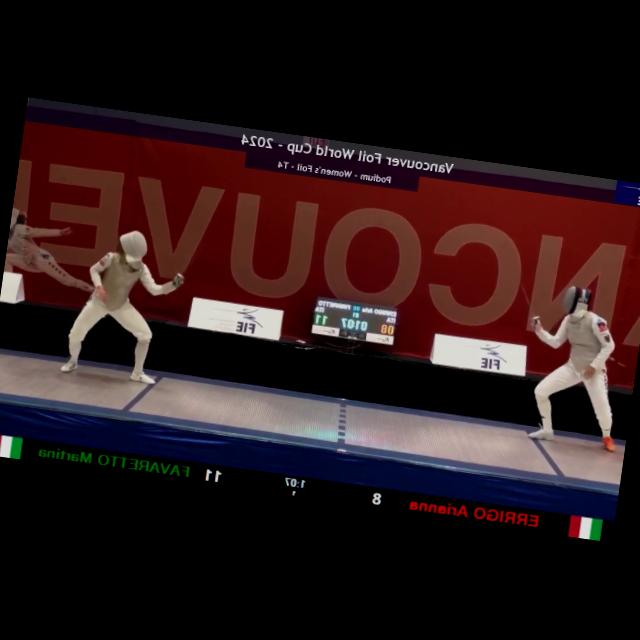blade: (512, 275, 548, 325), (175, 244, 204, 287)
